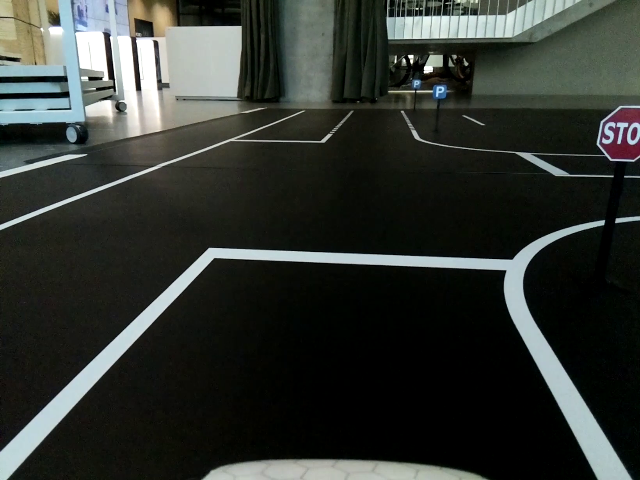stop: (596, 104, 640, 164)
